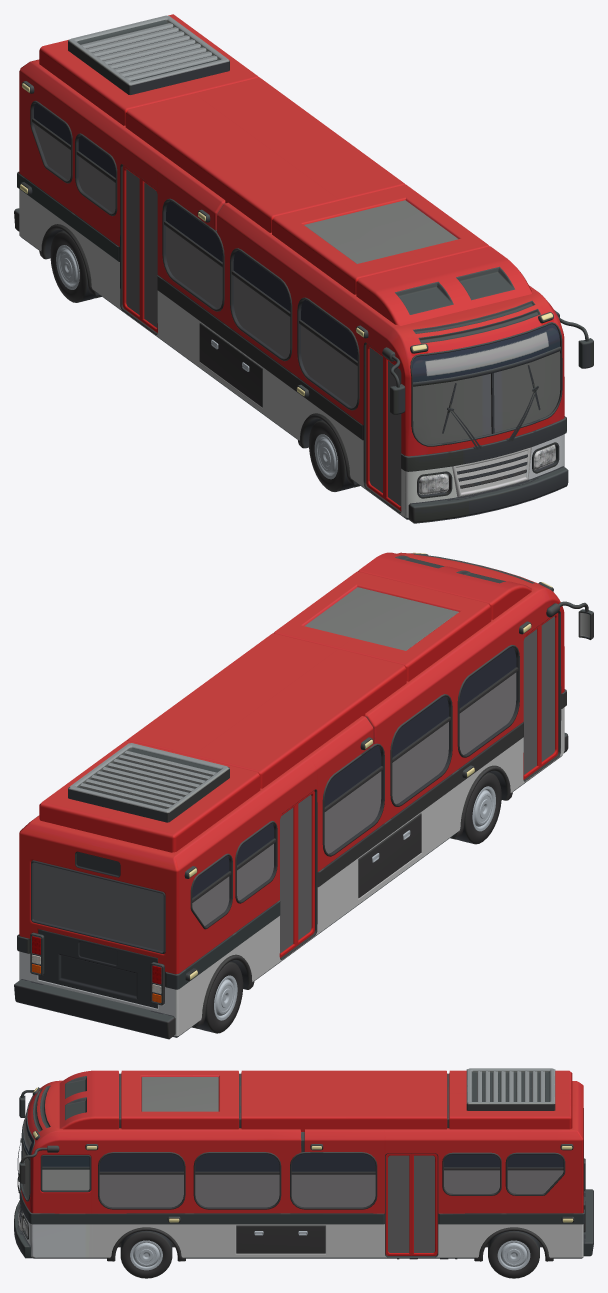
File: Bus.fbx
The picture shows the model from 3 angles, top to bottom: view 1: azimuth 30°, elevation 25°; view 2: azimuth 150°, elevation 25°; view 3: azimuth 270°, elevation 25°; orthographic projection. The views are drawn at different scales.
Visible parts, largest first — view 1: node_id279; view 2: node_id279; view 3: node_id279.
Boxes of the visible parts, <box> form: node_id279: <box>14,14,593,523</box>; node_id279: <box>14,552,593,1039</box>; node_id279: <box>14,1068,593,1278</box>.
Size of the model in its own units: 0.4609 by 0.512 by 1.62.
1 material, 1 textured.
